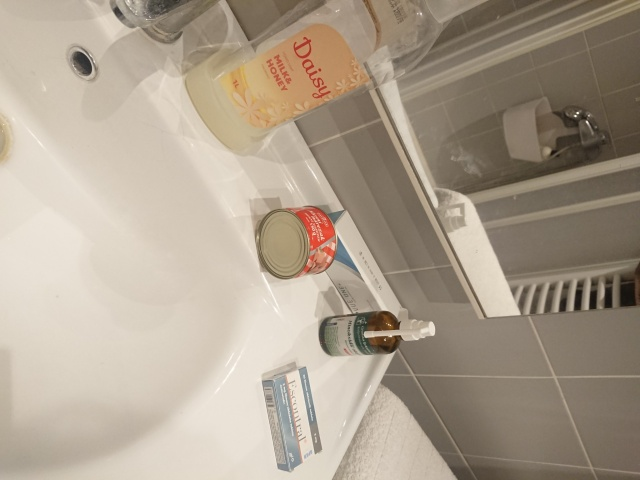Podravka Luncheon Meat 150g: (253, 204, 340, 281)
